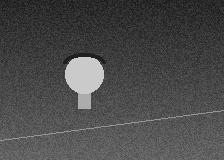no_helmet: (65, 53, 103, 98)
